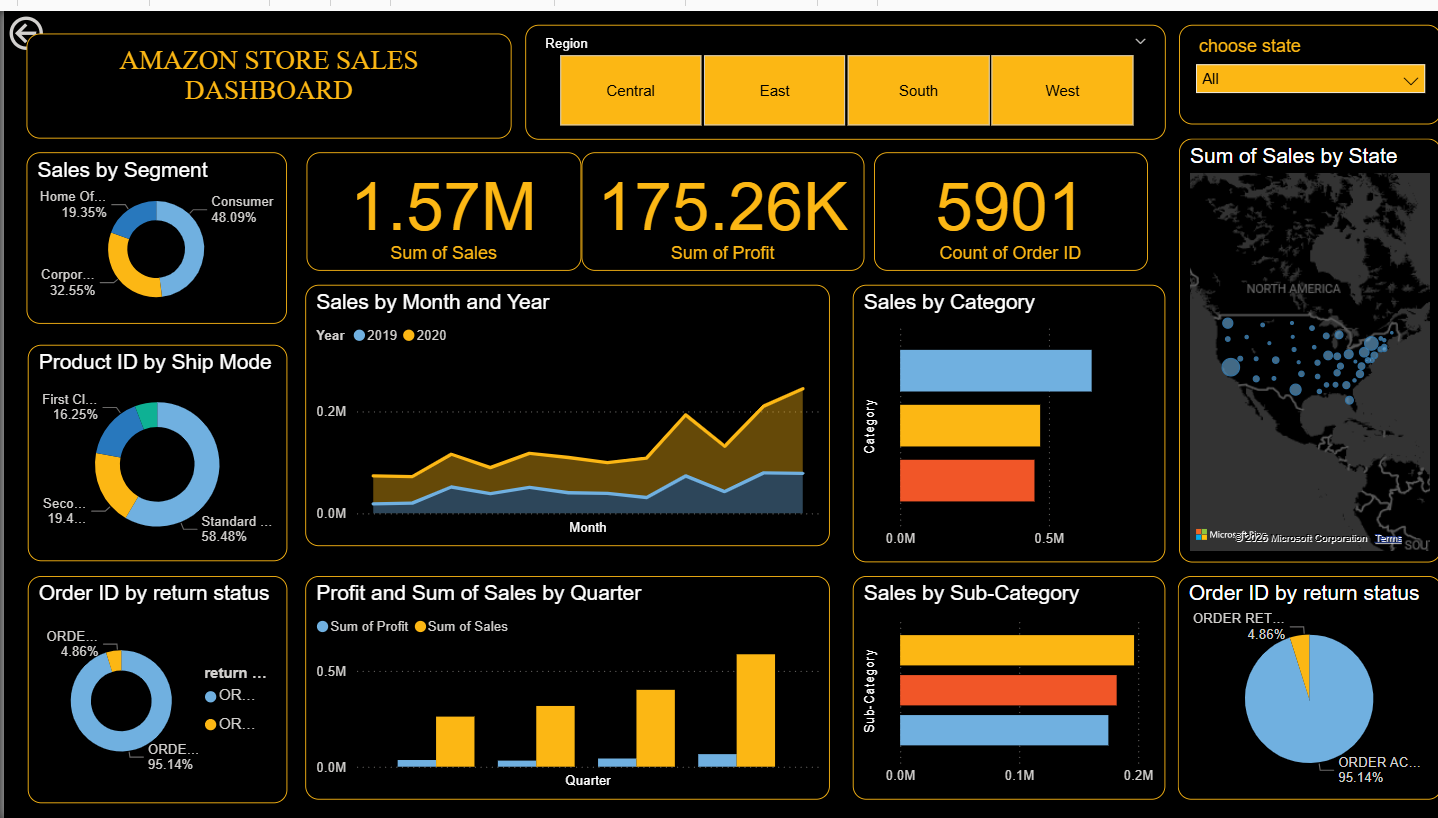

This screenshot's page, from the dashboard's own definition file:
{"tool":"powerbi","page":{"name":"Page 1","canvas":[1280,720],"ordinal":0},"visuals":[{"type":"clusteredBarChart","title":" Sales by Category","fields":{"Category":["Amazon Store Sales Data xlsx -.Category"],"Y":["Sum(Amazon Store Sales Data xlsx -.Sales)"]},"box":[756.1,244.3,278.6,247],"z":0},{"type":"clusteredBarChart","title":" Sales by Sub-Category","fields":{"Category":["Amazon Store Sales Data xlsx -.Sub-Category"],"Y":["Sum(Amazon Store Sales Data xlsx -.Sales)"]},"box":[756.1,503.6,278.6,199],"z":1000},{"type":"donutChart","title":"Sales by Segment","fields":{"Category":["Amazon Store Sales Data xlsx -.Segment"],"Y":["Sum(Amazon Store Sales Data xlsx -.Sales)"]},"box":[20.4,126.1,231.7,152.5],"z":2000},{"type":"donutChart","title":" Product ID by Ship Mode","fields":{"Category":["Amazon Store Sales Data xlsx -.Ship Mode"],"Y":["CountNonNull(Amazon Store Sales Data xlsx -.Product ID)"]},"box":[20.9,297.7,231.4,193],"z":3000},{"type":"donutChart","title":" Order ID by return status","fields":{"Y":["CountNonNull(Amazon Store Sales Data xlsx -.Order ID)"],"Category":["Amazon Store Sales Data xlsx -.return status"]},"box":[20.9,503.5,231.4,202.3],"z":4000},{"type":"stackedAreaChart","title":" Sales by Month and Year","fields":{"Category":["Amazon Store Sales Data xlsx -.Order Date.Variation.Date Hierarchy.Month"],"Y":["Sum(Amazon Store Sales Data xlsx -.Sales)"],"Series":["Amazon Store Sales Data xlsx -.Order Date.Variation.Date Hierarchy.Year"]},"box":[268.6,244.2,467.4,232.6],"z":5000},{"type":"clusteredColumnChart","title":" Profit and Sum of Sales by Quarter","fields":{"Category":["Amazon Store Sales Data xlsx -.Order Date.Variation.Date Hierarchy.Quarter"],"Y":["Sum(Amazon Store Sales Data xlsx -.Profit)","Sum(Amazon Store Sales Data xlsx -.Sales)"]},"box":[268.6,503.5,467.4,198.8],"z":6000},{"type":"map","fields":{"Category":["Amazon Store Sales Data xlsx -.State"],"Size":["Sum(Amazon Store Sales Data xlsx -.Sales)"]},"box":[1046.4,113.5,233.8,377.4],"z":7000},{"type":"pieChart","title":"Order ID by return status","fields":{"Y":["CountNonNull(Amazon Store Sales Data xlsx -.Order ID)"],"Category":["Amazon Store Sales Data xlsx -.return status"]},"box":[1045.4,503.5,234.9,198.8],"z":8000},{"type":"actionButton","box":[0,0,99.7,39.6],"z":9000},{"type":"card","fields":{"Values":["Sum(Amazon Store Sales Data xlsx -.Sales)"]},"box":[269,126.1,245,105.7],"z":10000},{"type":"card","fields":{"Values":["Sum(Amazon Store Sales Data xlsx -.Profit)"]},"box":[513.9,126.1,252.2,105.7],"z":11000},{"type":"card","fields":{"Values":["CountNonNull(Amazon Store Sales Data xlsx -.Order ID)"]},"box":[774.5,126.1,243.8,105.7],"z":12000},{"type":"slicer","fields":{"Values":["Amazon Store Sales Data xlsx -.State"]},"box":[1046.4,12.2,233.8,89.1],"z":13000},{"type":"slicer","fields":{"Values":["Amazon Store Sales Data xlsx -.Region"]},"box":[464.7,12,570.4,102.1],"z":14000},{"type":"textbox","box":[20.4,20.4,432.3,93.7],"z":15000}]}

Visuals, with their boxes in screenshot pixels (x1, y1, x2, y2), scaled from the page's 1280x720 canvas onto the 1438x818 screenshot:
" Sales by Category" clusteredBarChart: (849,278,1162,558)
" Sales by Sub-Category" clusteredBarChart: (849,572,1162,798)
"Sales by Segment" donutChart: (23,143,283,317)
" Product ID by Ship Mode" donutChart: (23,338,283,557)
" Order ID by return status" donutChart: (23,572,283,802)
" Sales by Month and Year" stackedAreaChart: (302,277,827,542)
" Profit and Sum of Sales by Quarter" clusteredColumnChart: (302,572,827,798)
map - Amazon Store Sales Data xlsx -.State x Sum(Amazon Store Sales Data xlsx -.Sales): (1176,129,1437,558)
"Order ID by return status" pieChart: (1174,572,1437,798)
actionButton: (0,0,112,45)
card - Sum(Amazon Store Sales Data xlsx -.Sales): (302,143,577,263)
card - Sum(Amazon Store Sales Data xlsx -.Profit): (577,143,861,263)
card - CountNonNull(Amazon Store Sales Data xlsx -.Order ID): (870,143,1144,263)
slicer - Amazon Store Sales Data xlsx -.State: (1176,14,1437,115)
slicer - Amazon Store Sales Data xlsx -.Region: (522,14,1163,130)
textbox: (23,23,509,130)
